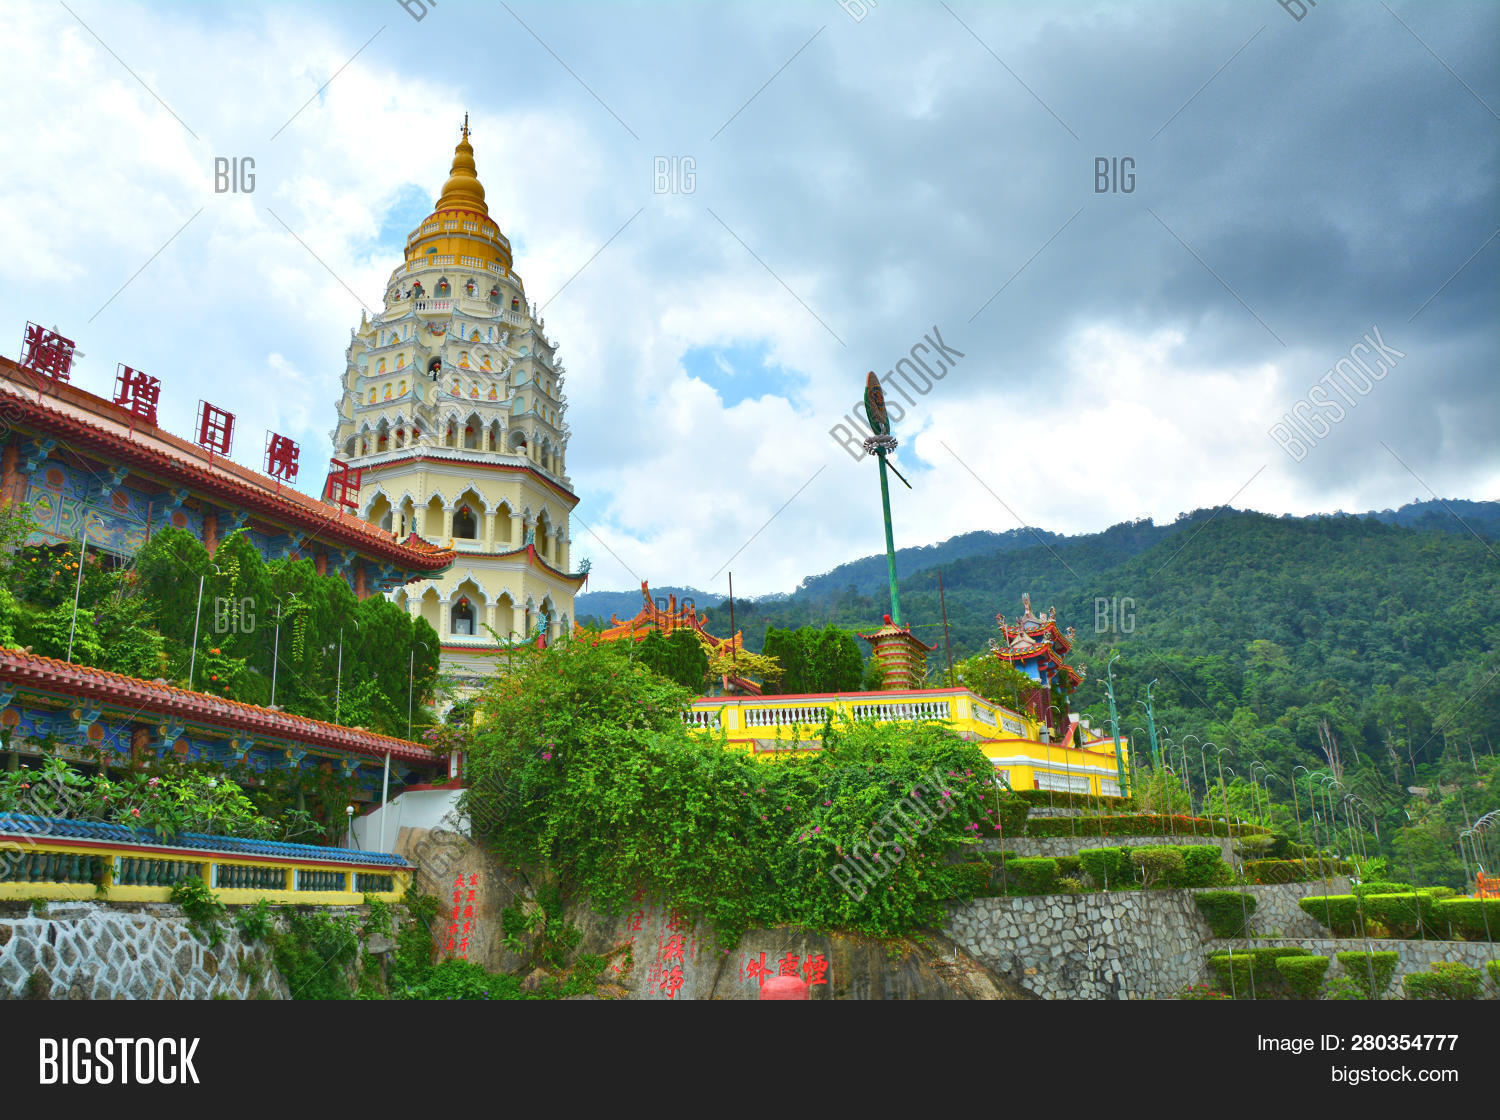Buddhist Temple: (326, 111, 593, 685)
